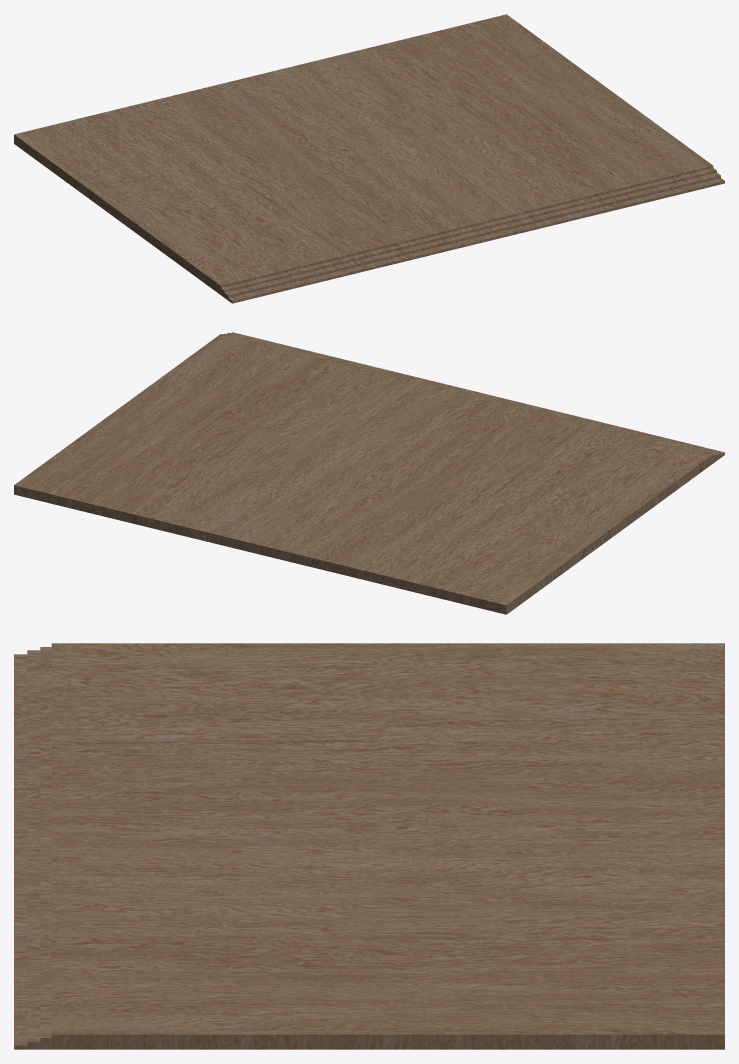
The model's file is Platform.fbx.
The picture shows the model from 3 angles, top to bottom: view 1: azimuth 30°, elevation 25°; view 2: azimuth 150°, elevation 25°; view 3: azimuth 270°, elevation 25°; orthographic projection. The views are drawn at different scales.
Parts seen in each view (by area): view 1: Platform; view 2: Platform; view 3: Platform.
Part boxes in pixels (x1,y1,x2,y2): Platform: (14,14,724,303); Platform: (14,332,724,614); Platform: (14,643,724,1049).
Size of the model in its own units: 10 by 0.1817 by 7.68.
1 material, 1 textured.
